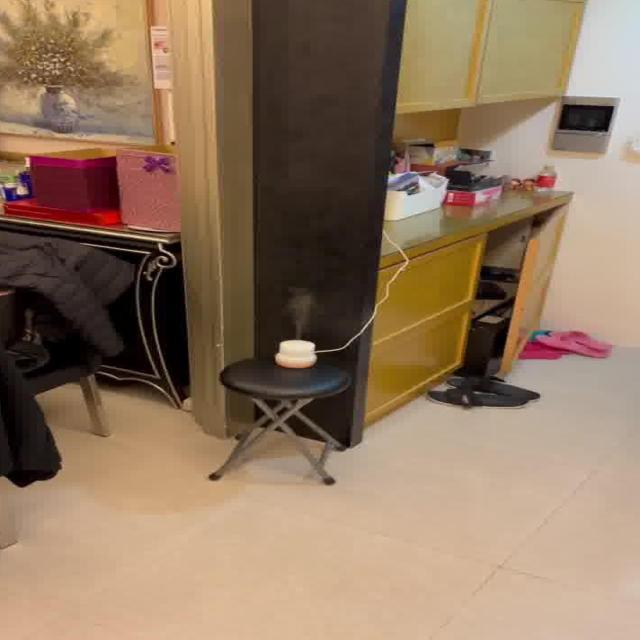fire: (272, 284, 323, 337)
